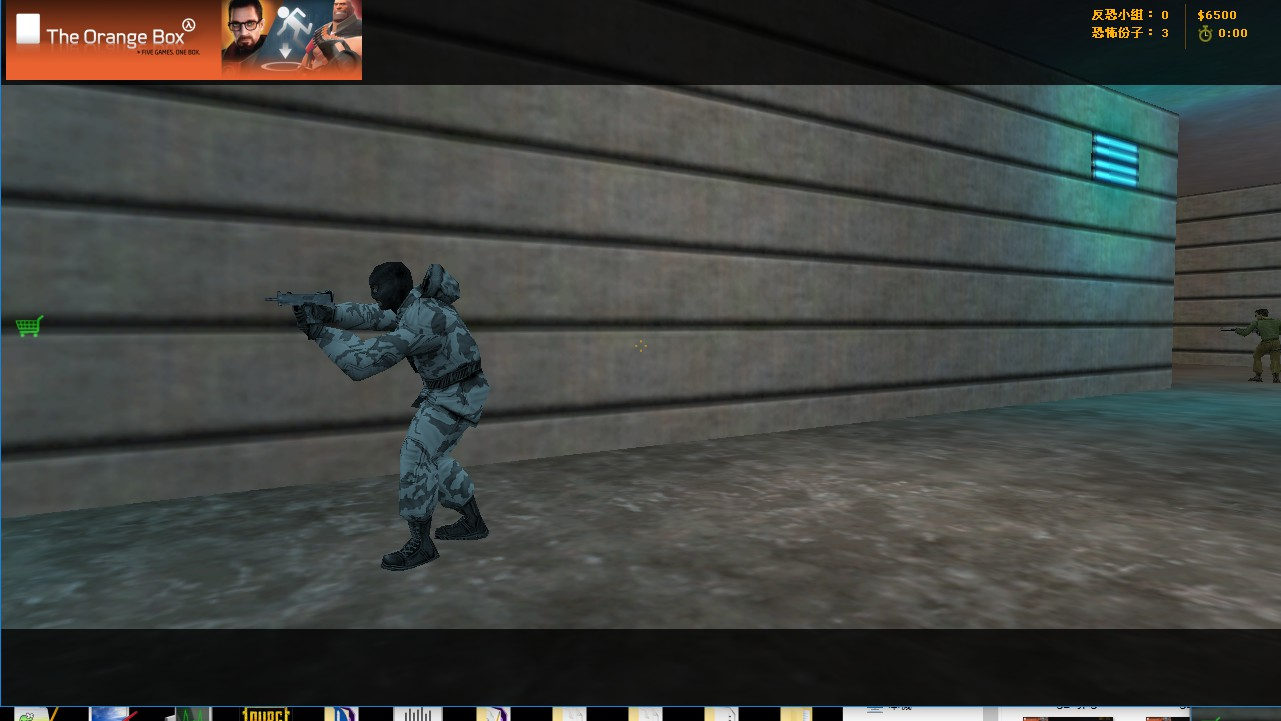person: (312, 253, 521, 587)
